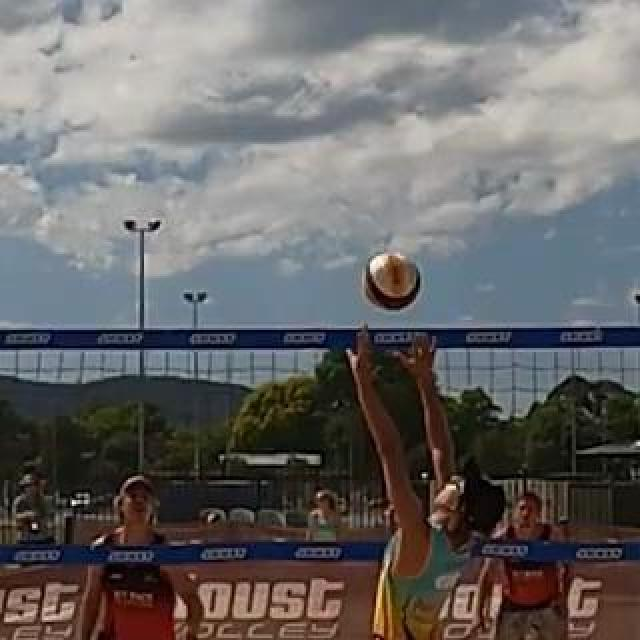volleyball: (364, 253, 422, 311)
